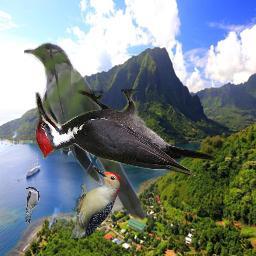Cuckoo: (24, 42, 151, 223)
Swallow: (24, 186, 40, 223)
Woodpecker: (35, 89, 215, 177), (71, 166, 121, 238)
